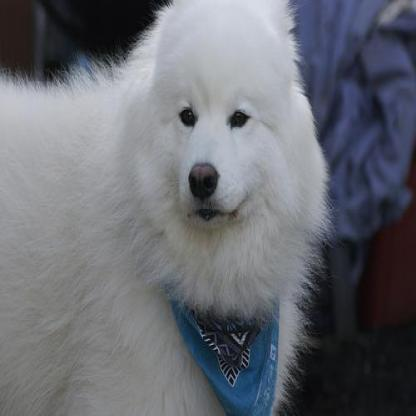Samoyed: (1, 0, 338, 414)
